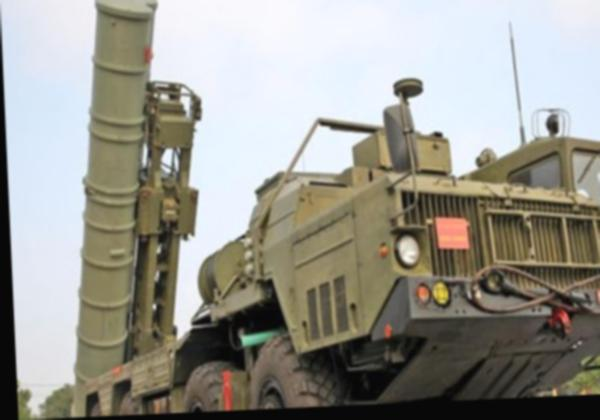License_Plate: (594, 288, 600, 305)
